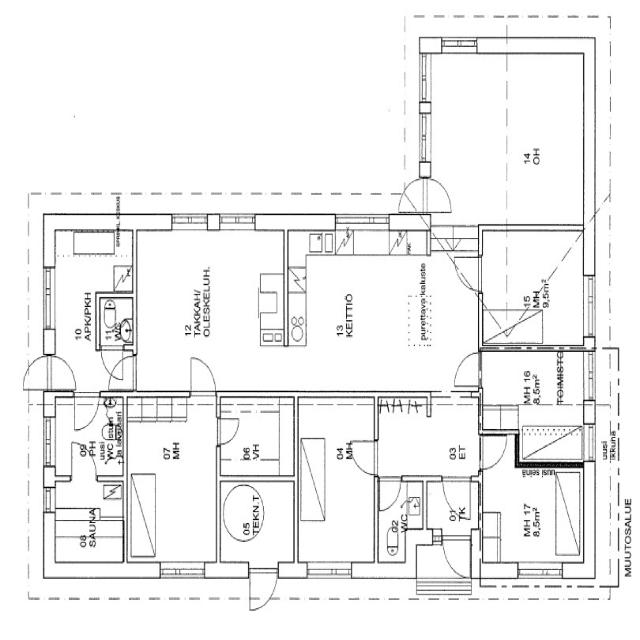door: (302, 402, 375, 566), (50, 476, 127, 564), (215, 405, 291, 473), (375, 472, 409, 560), (400, 173, 456, 216), (439, 473, 476, 522), (450, 246, 485, 294), (246, 564, 278, 616), (449, 347, 484, 393), (474, 427, 510, 471), (186, 352, 218, 398), (439, 534, 472, 578), (67, 442, 101, 483), (347, 437, 380, 478), (375, 472, 405, 512), (72, 392, 101, 432), (105, 351, 136, 388), (48, 354, 78, 392), (22, 355, 52, 392), (215, 413, 242, 448), (103, 251, 118, 267)
window: (580, 266, 600, 346), (39, 263, 60, 338), (331, 209, 394, 233), (514, 560, 569, 587), (304, 560, 357, 581), (156, 562, 209, 582), (300, 388, 364, 404), (441, 33, 480, 55), (170, 210, 209, 231), (219, 211, 257, 230), (579, 426, 593, 462)
zone: (284, 230, 469, 392), (129, 221, 285, 394), (127, 396, 218, 570), (421, 48, 510, 223), (503, 46, 588, 227), (47, 228, 131, 392), (478, 225, 588, 350), (298, 400, 376, 568), (477, 346, 590, 455), (478, 465, 587, 573), (377, 399, 482, 476), (50, 478, 126, 566), (218, 398, 295, 477), (378, 478, 411, 568), (99, 294, 136, 354)
